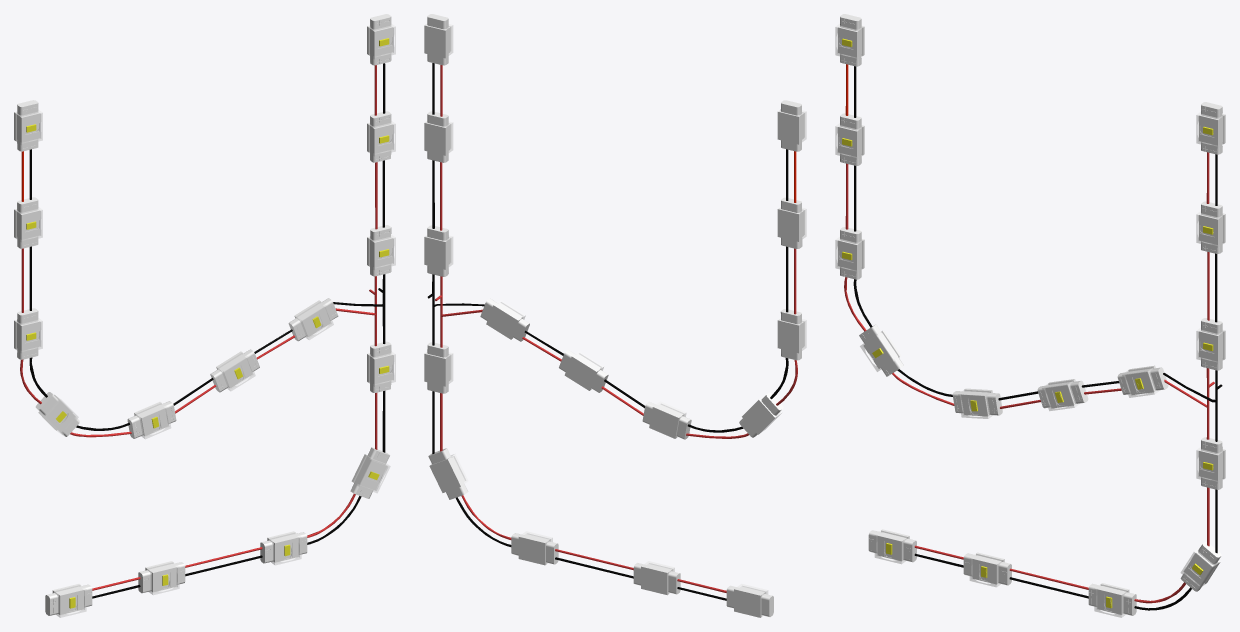
Rendered from fixed.glb.
3 renders of one model, left to right at view 1: azimuth 30°, elevation 25°; view 2: azimuth 150°, elevation 25°; view 3: azimuth 330°, elevation 25°, orthographic. The views are drawn at different scales.
Visible parts, largest first — view 1: fixed; view 2: fixed; view 3: fixed.
Boxes of the visible parts, bbox=[...] form: fixed: bbox=[14, 14, 395, 617]; fixed: bbox=[424, 14, 806, 617]; fixed: bbox=[835, 14, 1225, 617].
Size of the model in its own units: 35.25 by 46.63 by 2.11.
